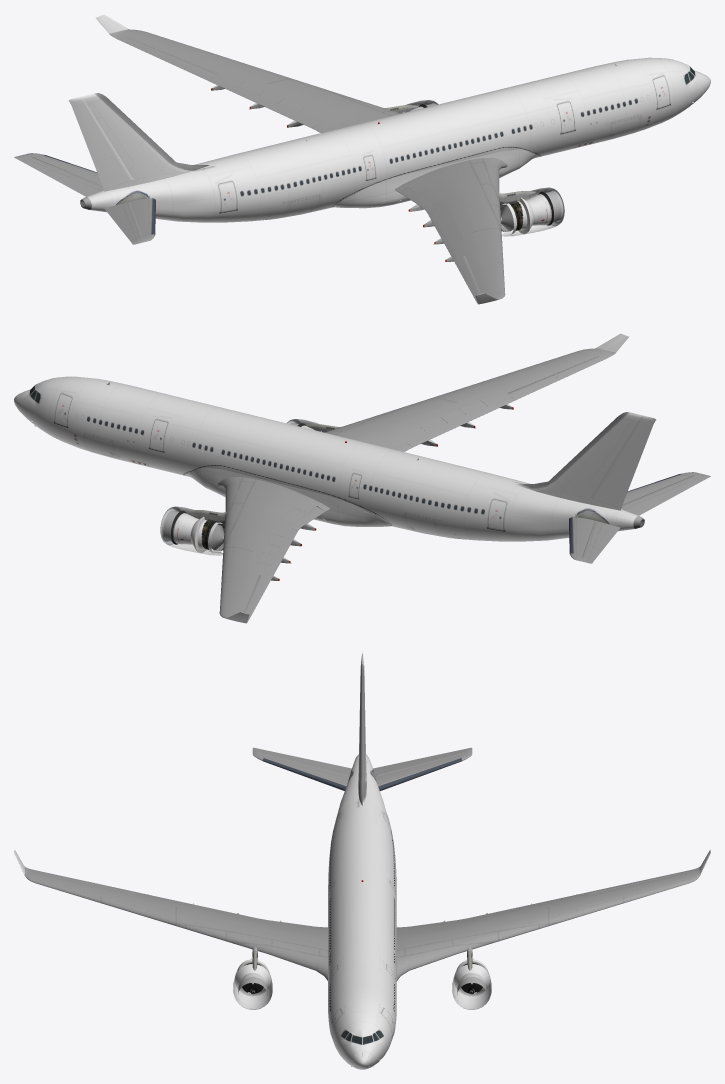
3 views of the same model, one above another, from view 1: azimuth 30°, elevation 25°; view 2: azimuth 150°, elevation 25°; view 3: azimuth 270°, elevation 25° (orthographic). The views are drawn at different scales.
Visible parts, largest first — view 1: fuselage.003, vstab, cylinder.004, cylinder.006, bellyfairing.001, rudder, wing.in1.001, cylinder.001, hstab, cylinder.002, elevator0, ge.nacelle1 (+4 smaller); view 2: fuselage.003, vstab, cylinder.006, bellyfairing.001, cylinder.004, rudder, wing.in0.001, cylinder.002, hstab, cylinder.001, elevator1, ge.nacelle0 (+5 smaller); view 3: fuselage.003, hstab, cylinder.004, cylinder.006, wing.in0.001, wing.in1.001, cylinder.001, cylinder.002, ge.nacelle0, ge.nacelle1, slat.out0.001, slat.out1.001 (+5 smaller).
Part boxes in pixels (x1,y1,x2,y2): fuselage.003: [80, 57, 703, 222]; vstab: [82, 93, 209, 191]; cylinder.004: [208, 66, 384, 123]; cylinder.006: [441, 186, 499, 260]; bellyfairing.001: [334, 148, 538, 208]; rudder: [68, 96, 133, 188]; wing.in1.001: [394, 157, 507, 199]; cylinder.001: [109, 29, 248, 80]; hstab: [14, 153, 155, 244]; cylinder.002: [454, 246, 504, 304]; elevator0: [19, 156, 103, 196]; ge.nacelle1: [518, 187, 555, 234]; fuselage.003: [21, 376, 644, 541]; vstab: [515, 412, 642, 510]; cylinder.006: [340, 385, 516, 442]; bellyfairing.001: [186, 467, 390, 526]; cylinder.004: [225, 505, 283, 579]; rudder: [591, 415, 656, 507]; wing.in0.001: [217, 477, 330, 518]; cylinder.002: [476, 348, 615, 399]; hstab: [569, 472, 710, 563]; cylinder.001: [220, 565, 270, 623]; elevator1: [621, 475, 705, 515]; ge.nacelle0: [169, 506, 204, 553]; fuselage.003: [328, 754, 396, 1069]; hstab: [252, 747, 472, 790]; cylinder.004: [457, 892, 587, 952]; cylinder.006: [137, 892, 267, 952]; wing.in0.001: [396, 923, 460, 981]; wing.in1.001: [264, 923, 327, 980]; cylinder.001: [588, 866, 700, 906]; cylinder.002: [24, 866, 136, 906]; ge.nacelle0: [452, 964, 491, 1009]; ge.nacelle1: [233, 964, 272, 1009]; slat.out0.001: [476, 907, 588, 947]; slat.out1.001: [136, 907, 248, 947].
Size of the model in its own units: 58.36 by 16.13 by 59.91.
20 materials, 16 textured.
